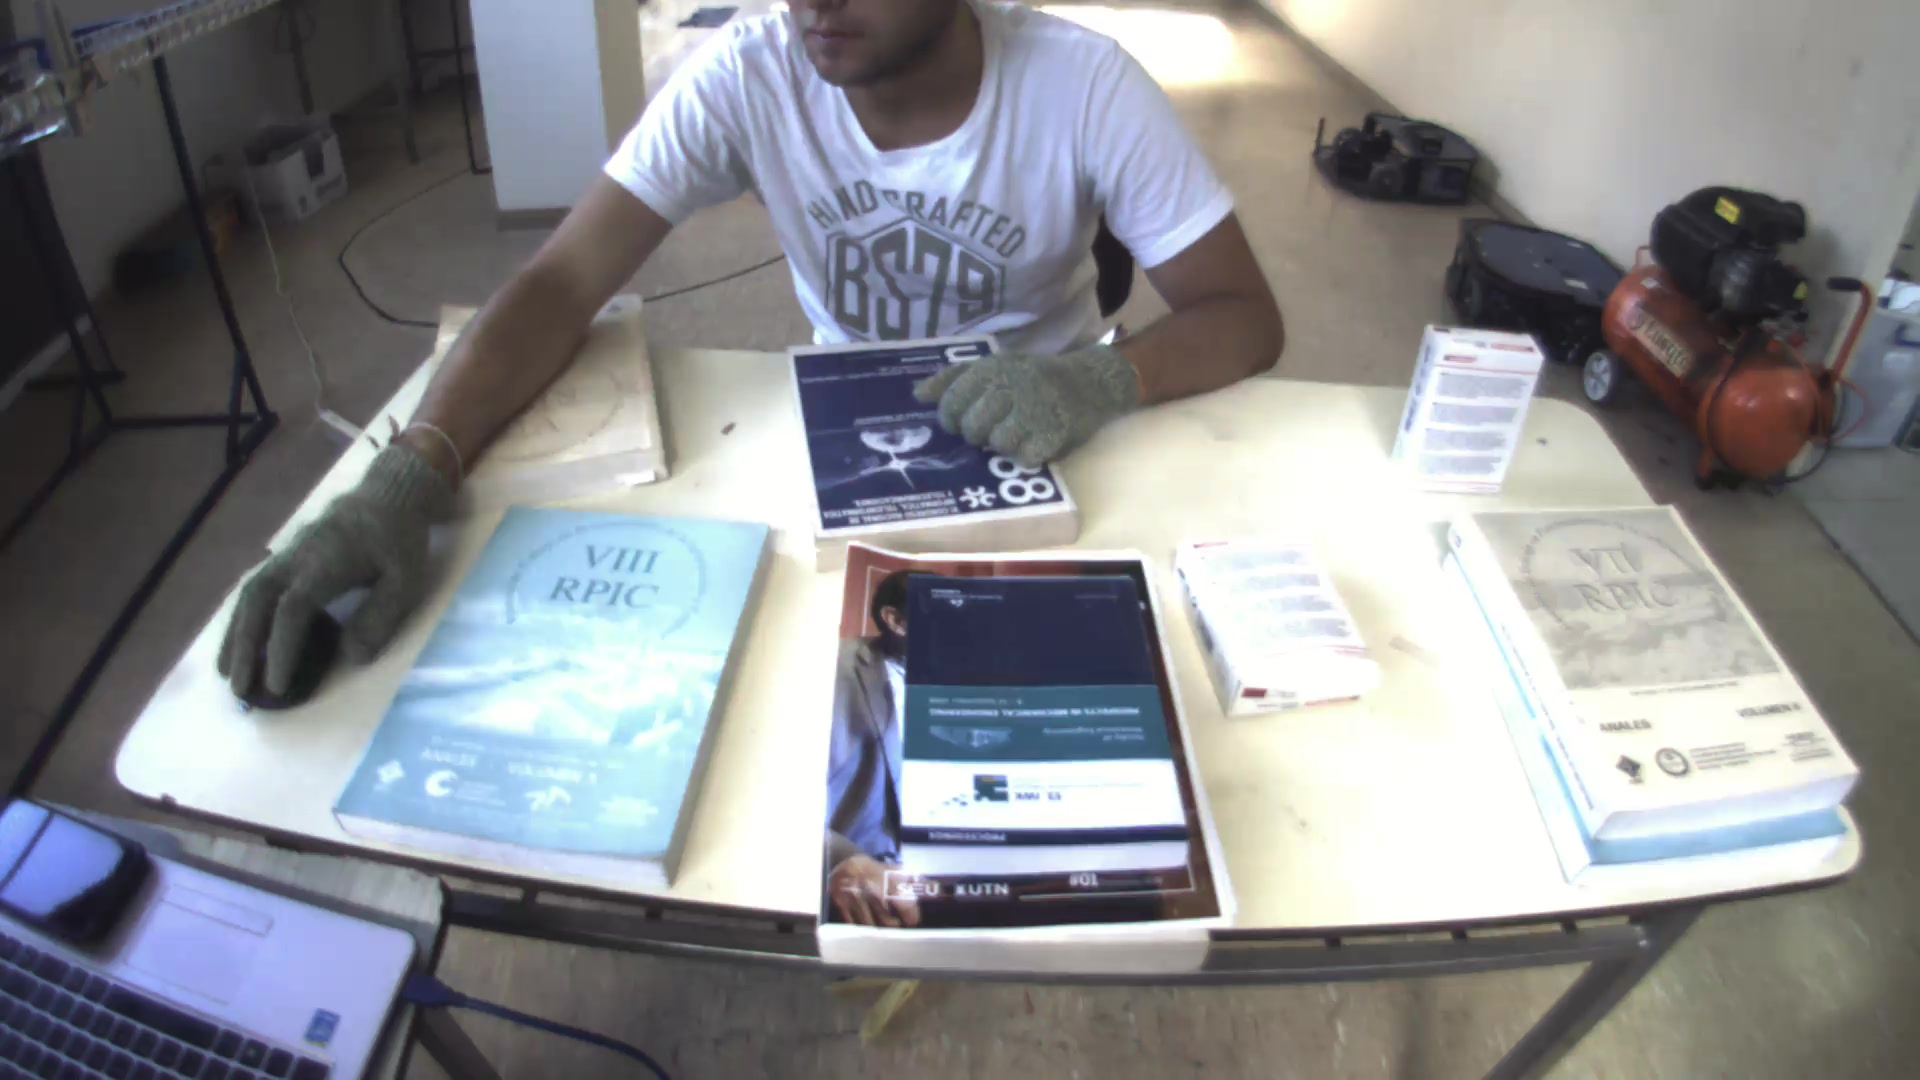hand: (208, 430, 467, 717), (903, 336, 1160, 465)
